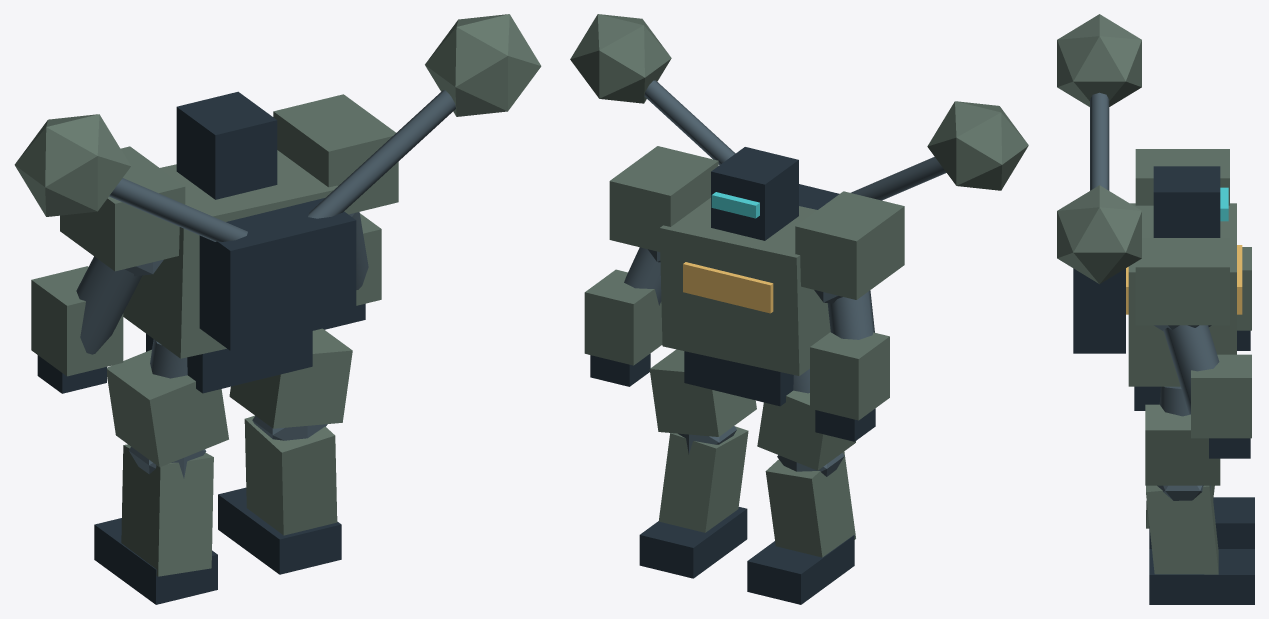
Rendered from frame-hydra.glb.
3 views of the same model, side by side, from view 1: azimuth 30°, elevation 25°; view 2: azimuth 150°, elevation 25°; view 3: azimuth 270°, elevation 25° (orthographic). The views are drawn at different scales.
Visible parts, largest first — view 1: frame-hydra; view 2: frame-hydra; view 3: frame-hydra.
Part boxes in pixels (x1,y1,x2,y2): frame-hydra: [14, 14, 541, 604]; frame-hydra: [570, 14, 1028, 604]; frame-hydra: [1057, 14, 1254, 604].
Bounding box in the file's own units: 1.77 × 1.81 × 0.7131.
